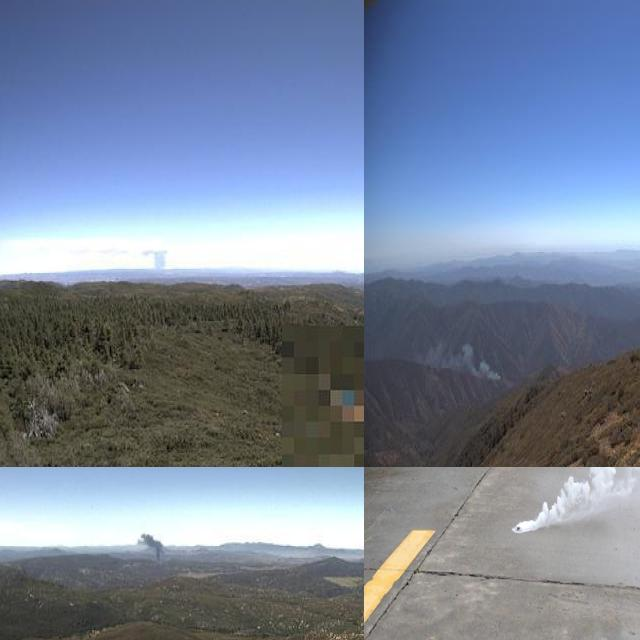smoke: (375, 322, 514, 390), (511, 467, 640, 534), (133, 524, 165, 568), (138, 246, 172, 272)
